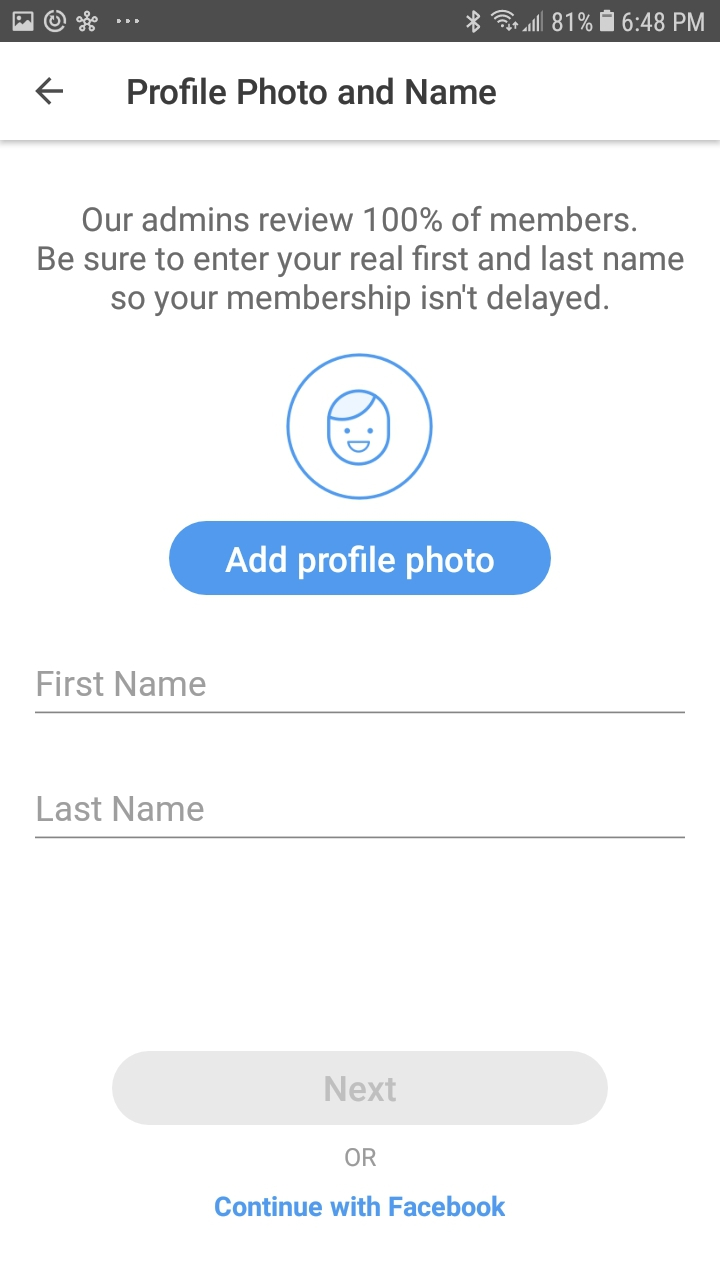EditText: (36, 670, 686, 715), (35, 796, 686, 839)
Icon: (36, 77, 65, 106)
Image: (286, 353, 434, 501)
Text: (38, 206, 684, 318), (128, 77, 497, 106), (215, 1195, 506, 1217), (38, 670, 207, 697), (38, 796, 205, 822), (344, 1147, 377, 1167)
TextButton: (112, 1051, 609, 1126), (170, 521, 552, 596)
UpperTaskBar: (1, 1, 720, 43)
